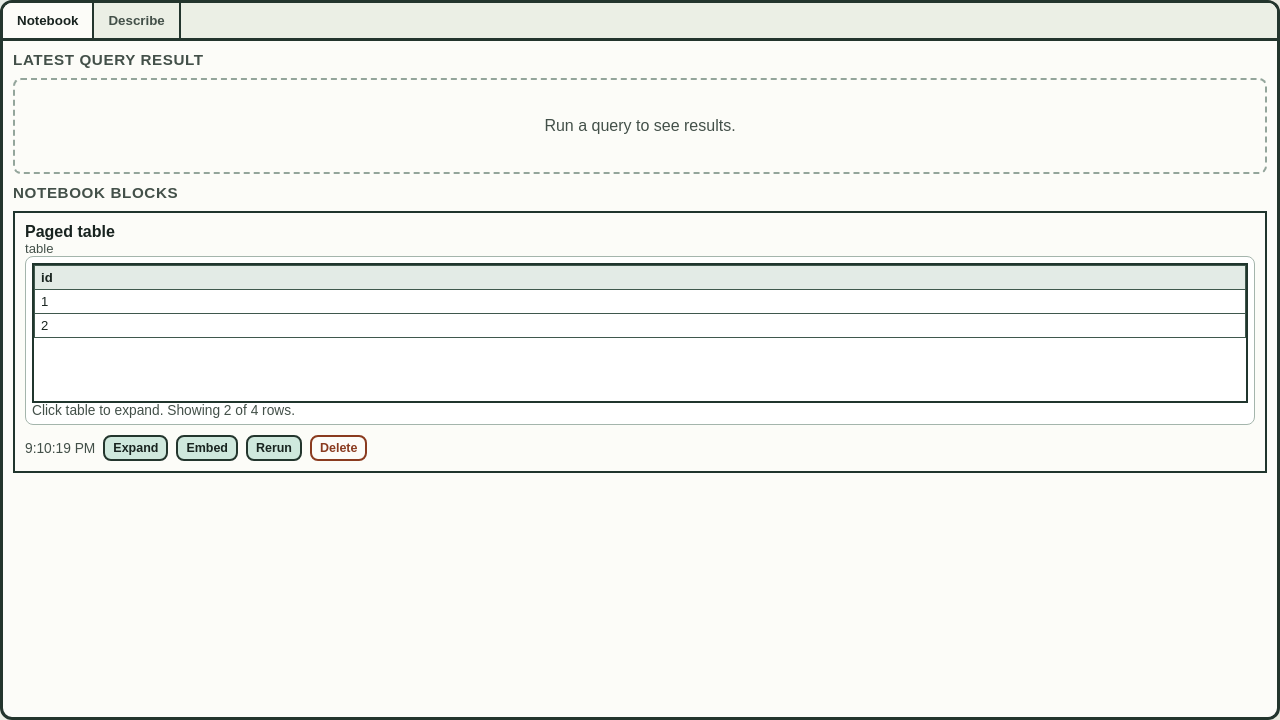
Test: ResultsWindow › loads more rows for expanded table previews when metadata is available
The image size is (1280, 720).
Click the button "Expand" at (136, 448), box top-left (103, 435), bottom-right (168, 461)
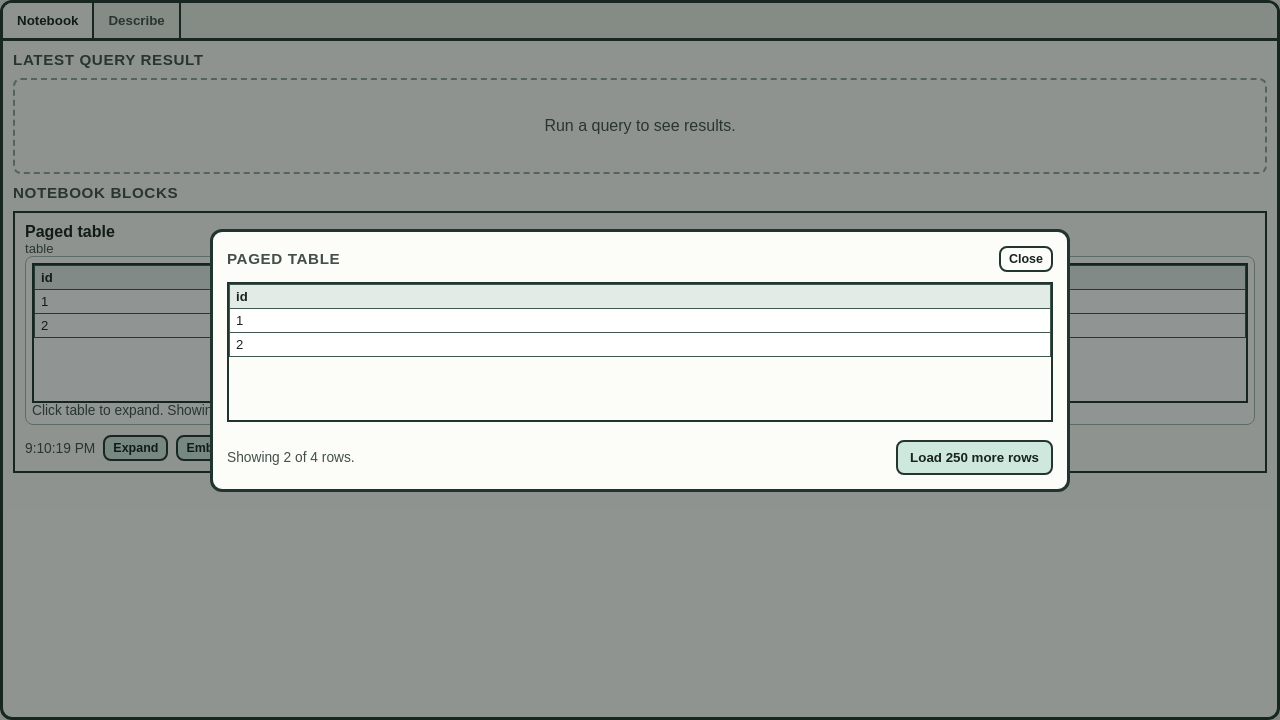
Click the button "Load 250 more rows" at (975, 457), box top-left (896, 440), bottom-right (1053, 474)
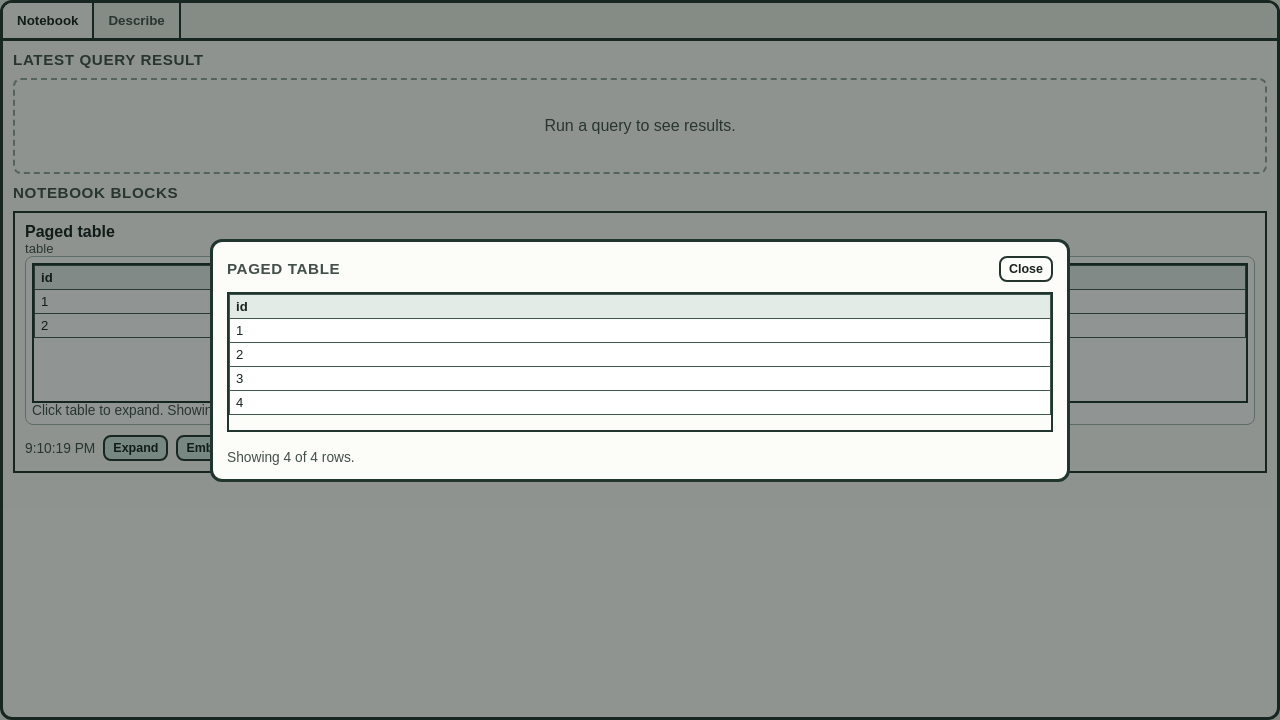
Expected: the text "Showing 4 of 4 rows." is shown, top-left (227, 450), bottom-right (355, 464)
